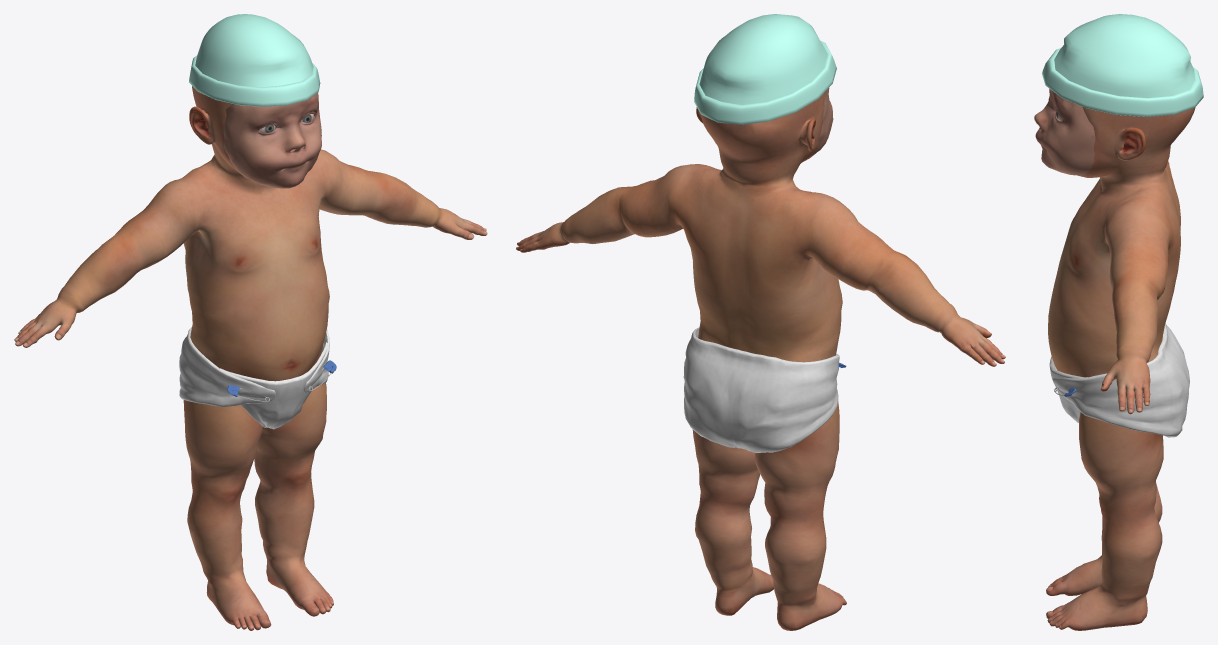
Rendered from baby2.fbx.
The picture shows the model from 3 angles, left to right: view 1: azimuth 30°, elevation 25°; view 2: azimuth 150°, elevation 25°; view 3: azimuth 270°, elevation 25°; orthographic projection. The views are drawn at different scales.
Parts seen in each view (by area): view 1: CC_Base_Body.001, Line001_Mesh, output_rasterized_(1).001, Diaper_Morph.001; view 2: CC_Base_Body.001, Diaper_Morph.001, Line001_Mesh; view 3: CC_Base_Body.001, Line001_Mesh, Diaper_Morph.001, output_rasterized_(1).001.
Boxes of the visible parts, <box> form: CC_Base_Body.001: <box>14,86,487,630</box>; Line001_Mesh: <box>189,14,320,106</box>; output_rasterized_(1).001: <box>223,93,321,188</box>; Diaper_Morph.001: <box>179,327,336,429</box>; CC_Base_Body.001: <box>516,93,1005,630</box>; Diaper_Morph.001: <box>683,327,846,452</box>; Line001_Mesh: <box>694,14,836,124</box>; CC_Base_Body.001: <box>1046,107,1195,630</box>; Line001_Mesh: <box>1042,14,1203,116</box>; Diaper_Morph.001: <box>1049,323,1189,437</box>; output_rasterized_(1).001: <box>1034,89,1095,175</box>.
Size of the model in its own units: 51.5 by 60.43 by 15.81.
Materials: 3 (2 with a texture image).
